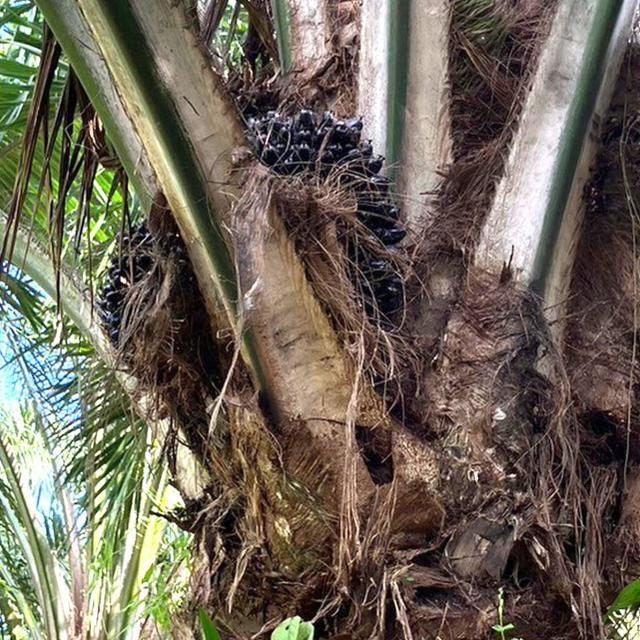unripe: (254, 108, 404, 338)
